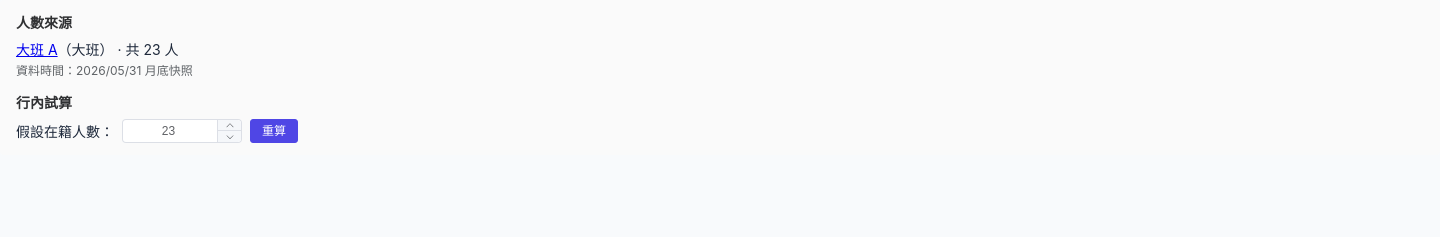
Test: SalaryBreakdown › shows preview row (.bd-preview) with formatted 節慶/超額/實領 after simulate response
The image size is (1440, 237).
Click the button "重算". click: (274, 131)
box: left=250, top=119, right=298, bottom=143
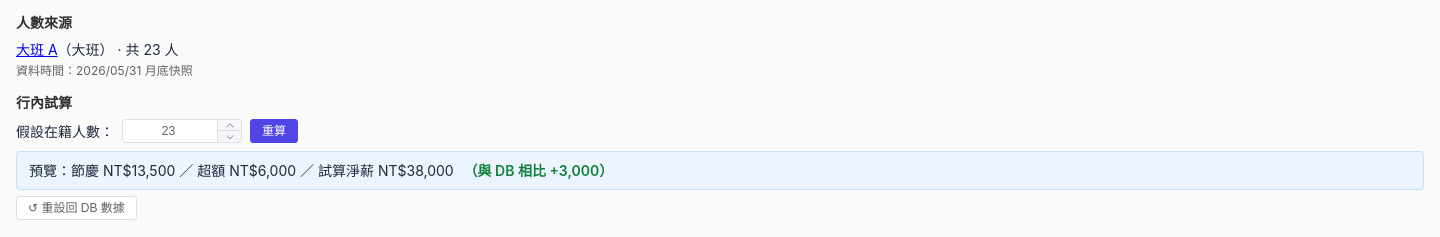
Result: the text "預覽" is shown at left=29, top=162, right=458, bottom=179
Result: the element with class "bd-preview" is shown at left=16, top=151, right=1424, bottom=190
Result: the element with class "bd-preview" shows "NT$13,500" at left=29, top=162, right=458, bottom=179
